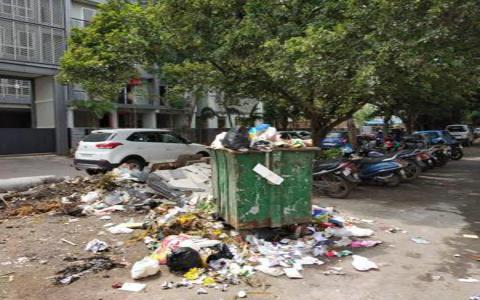overflowing garbage: (202, 124, 323, 289)
